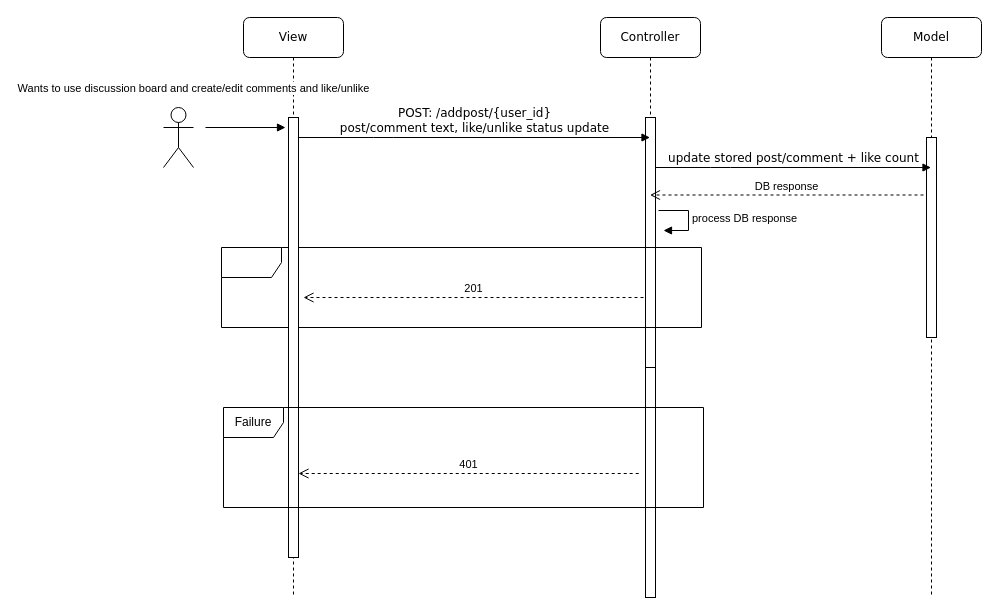
Some shapes in this 999 by 615 pixel diagram are drawn without their labels. Each missing label, with the centre of its shape:
Actor: [178,137]
Success: [461,287]
